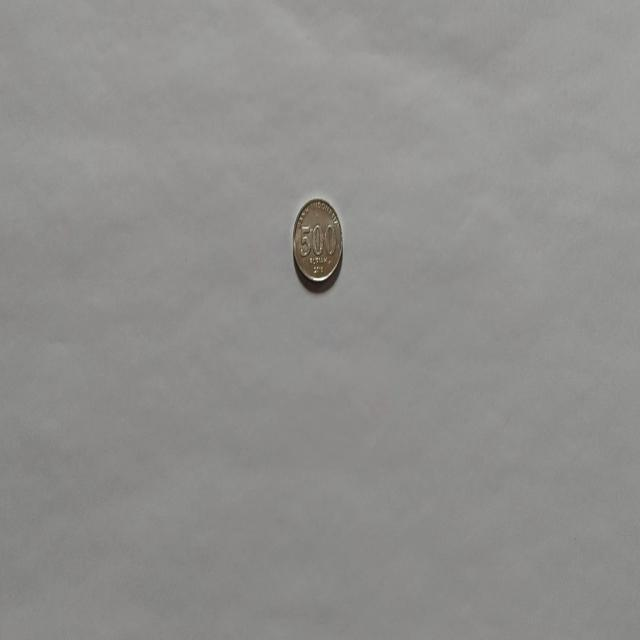lima ratus rupiah: (292, 195, 344, 288)
